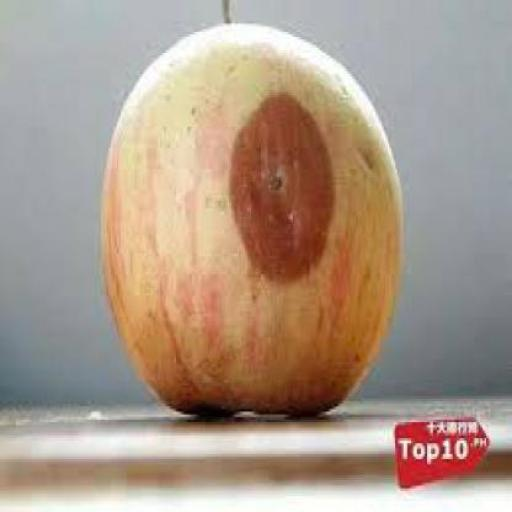biodegradable: (100, 0, 400, 417)
